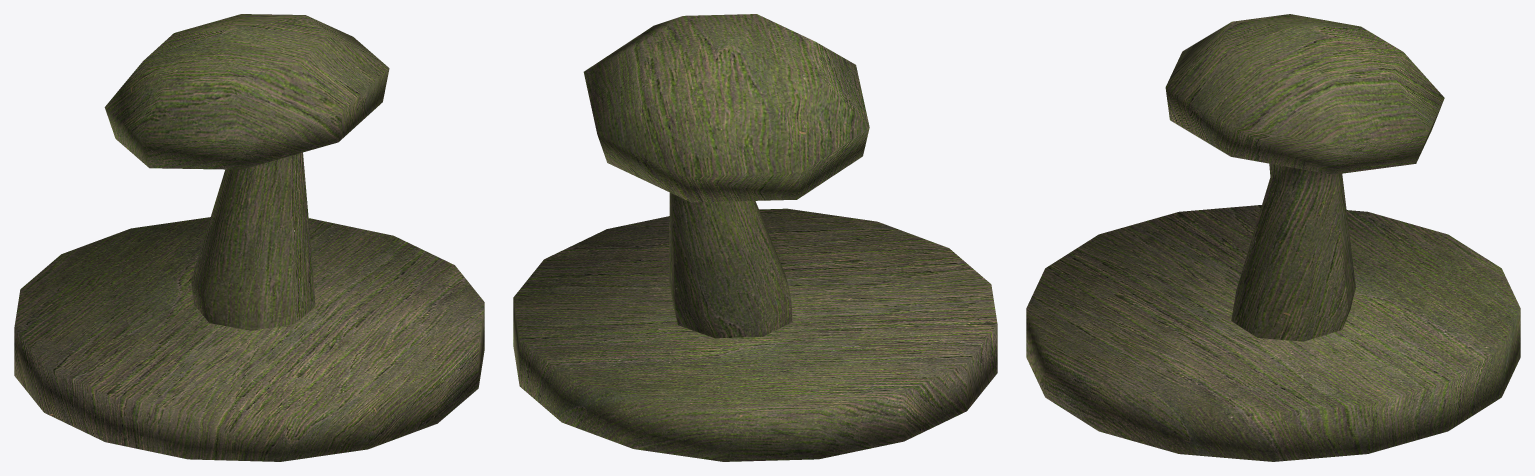
File: seta.fbx
3 views of the same model, side by side, from view 1: azimuth 30°, elevation 25°; view 2: azimuth 150°, elevation 25°; view 3: azimuth 270°, elevation 25° (orthographic). The views are drawn at different scales.
Visible parts, largest first — view 1: Base_seta; view 2: Base_seta; view 3: Base_seta.
Part boxes in pixels (x1,y1,x2,y2): Base_seta: (14,14,484,461); Base_seta: (513,14,997,461); Base_seta: (1026,14,1520,461).
Bounding box in the file's own units: 18.03 × 13.35 × 18.03.
